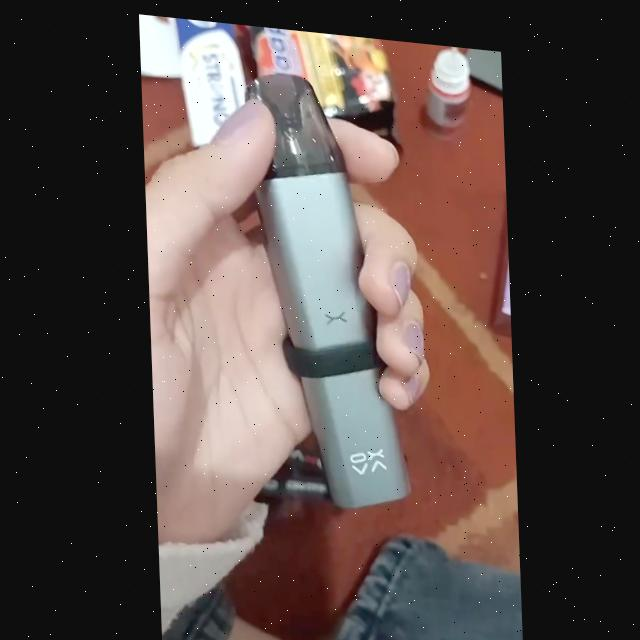vape: (246, 63, 411, 509)
